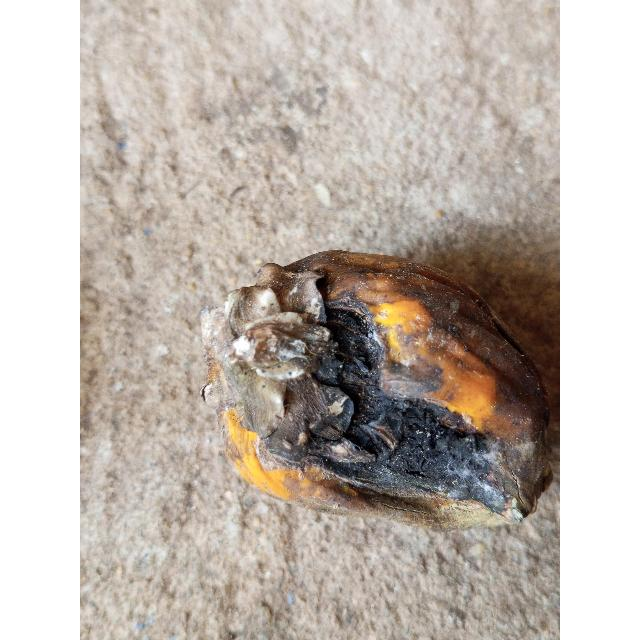damaged: (201, 251, 556, 529)
